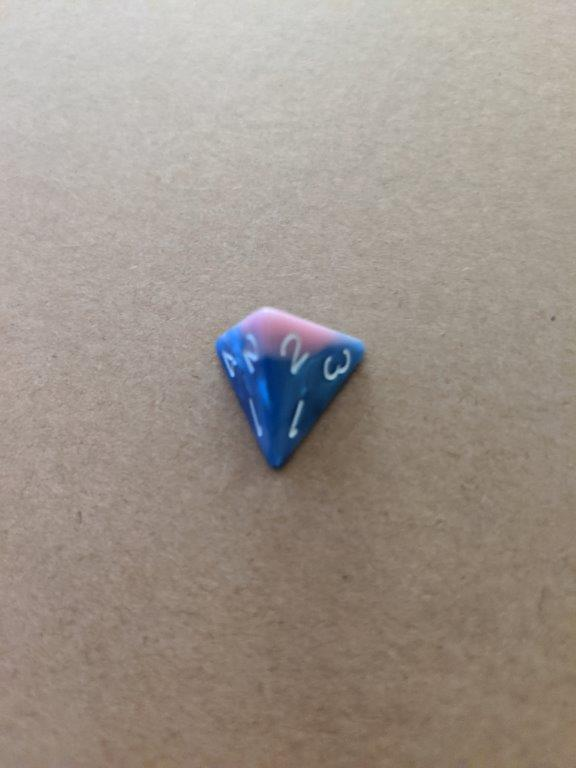d4-2: (207, 301, 370, 478)
